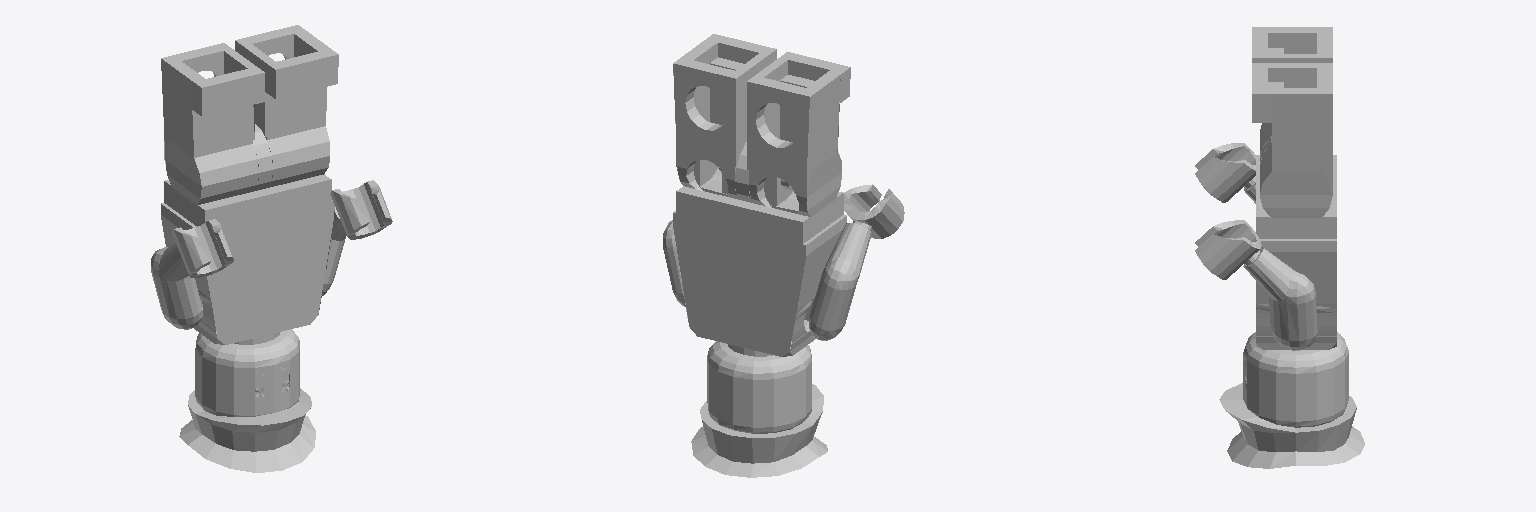
Rendered from Dude.obj.
3 views of the same model, side by side, from view 1: azimuth 30°, elevation 25°; view 2: azimuth 150°, elevation 25°; view 3: azimuth 270°, elevation 25° (orthographic).
Parts seen in each view (by area): view 1: mesh01; view 2: mesh01; view 3: mesh01.
Part boxes in pixels (left/top/right/bottom): mesh01: left=151, top=25, right=392, bottom=472; mesh01: left=663, top=34, right=904, bottom=477; mesh01: left=1195, top=27, right=1364, bottom=468.
Bounding box in the file's own units: 0.0228 × 0.0424 × 0.0168.